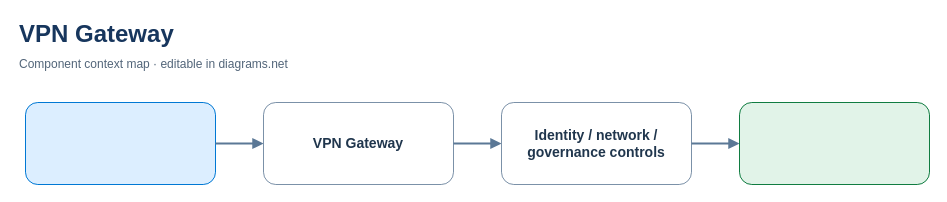
This 947x202 diagram has some shape labels left out. Each missing label, with the centre of its shape:
"C · Networking & Private Connectivity" goes at [120,143].
"Monitoring / resilience / operations" goes at [834,143].
